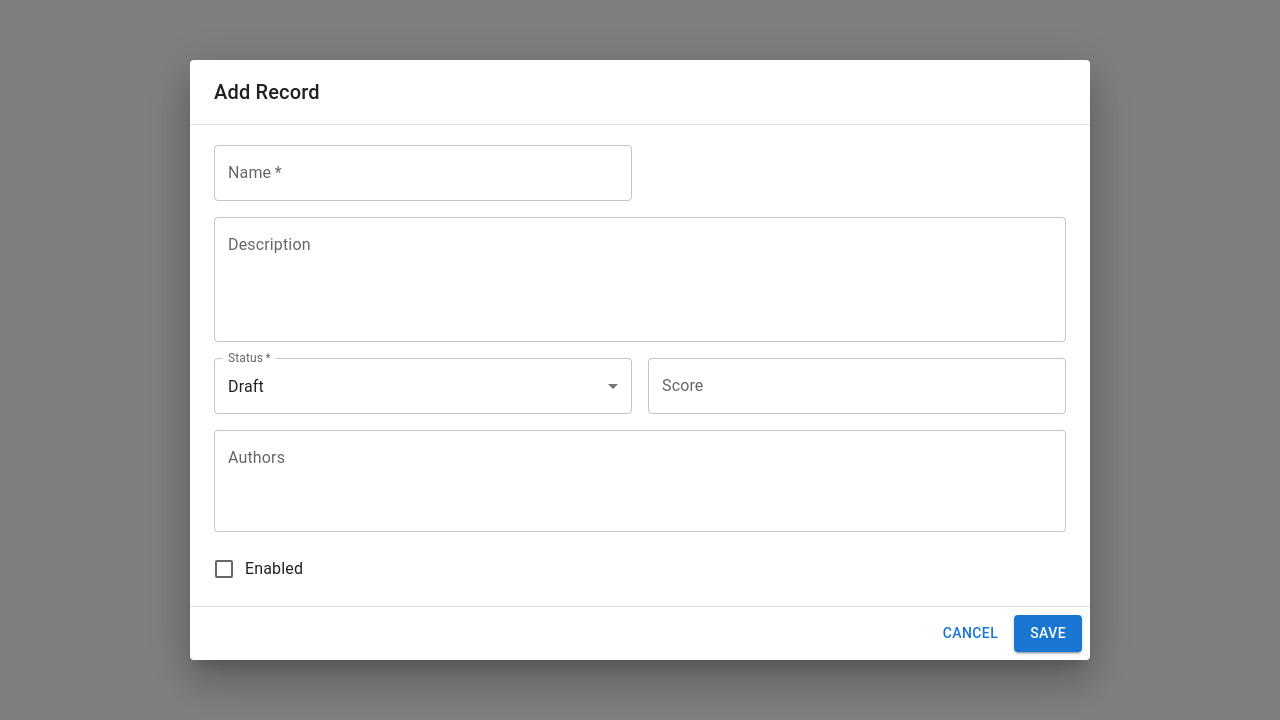
Test case: RecordDialog › shows required field validation
Click the button "Save": (1048, 634) [1014,615,1082,652]
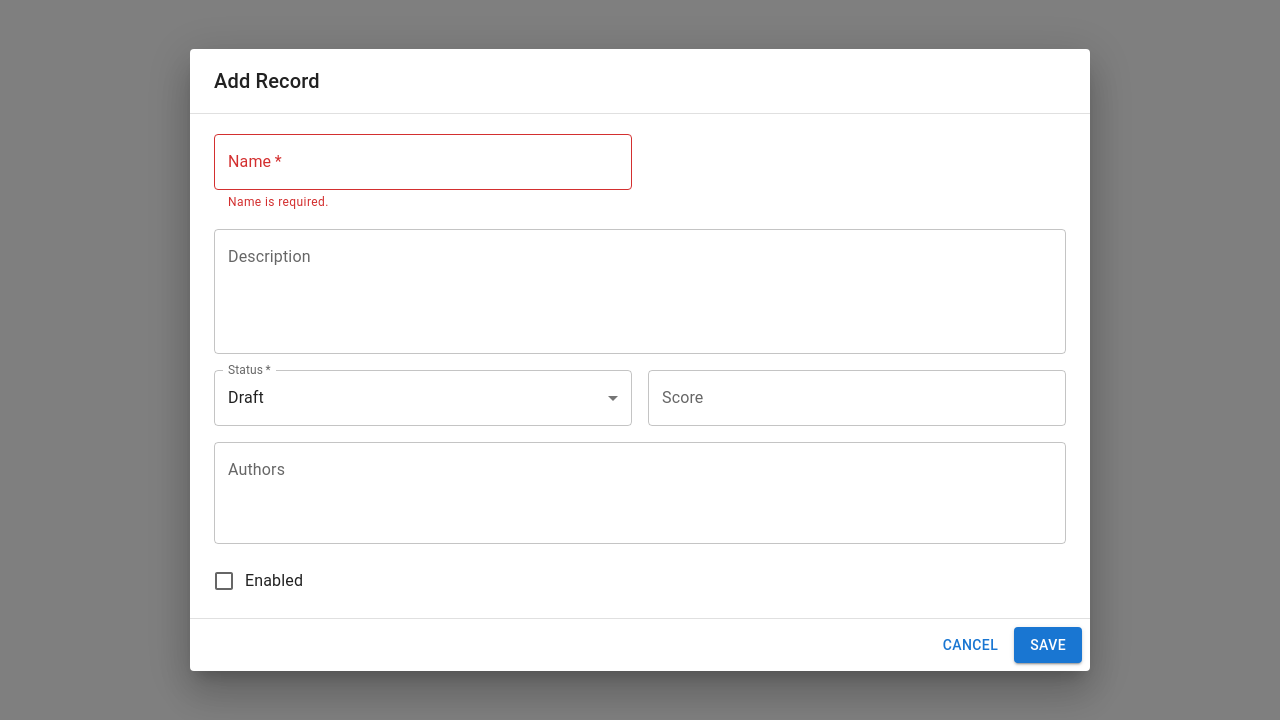
Result: the text "Name is required." is shown at [228,195,329,209]
